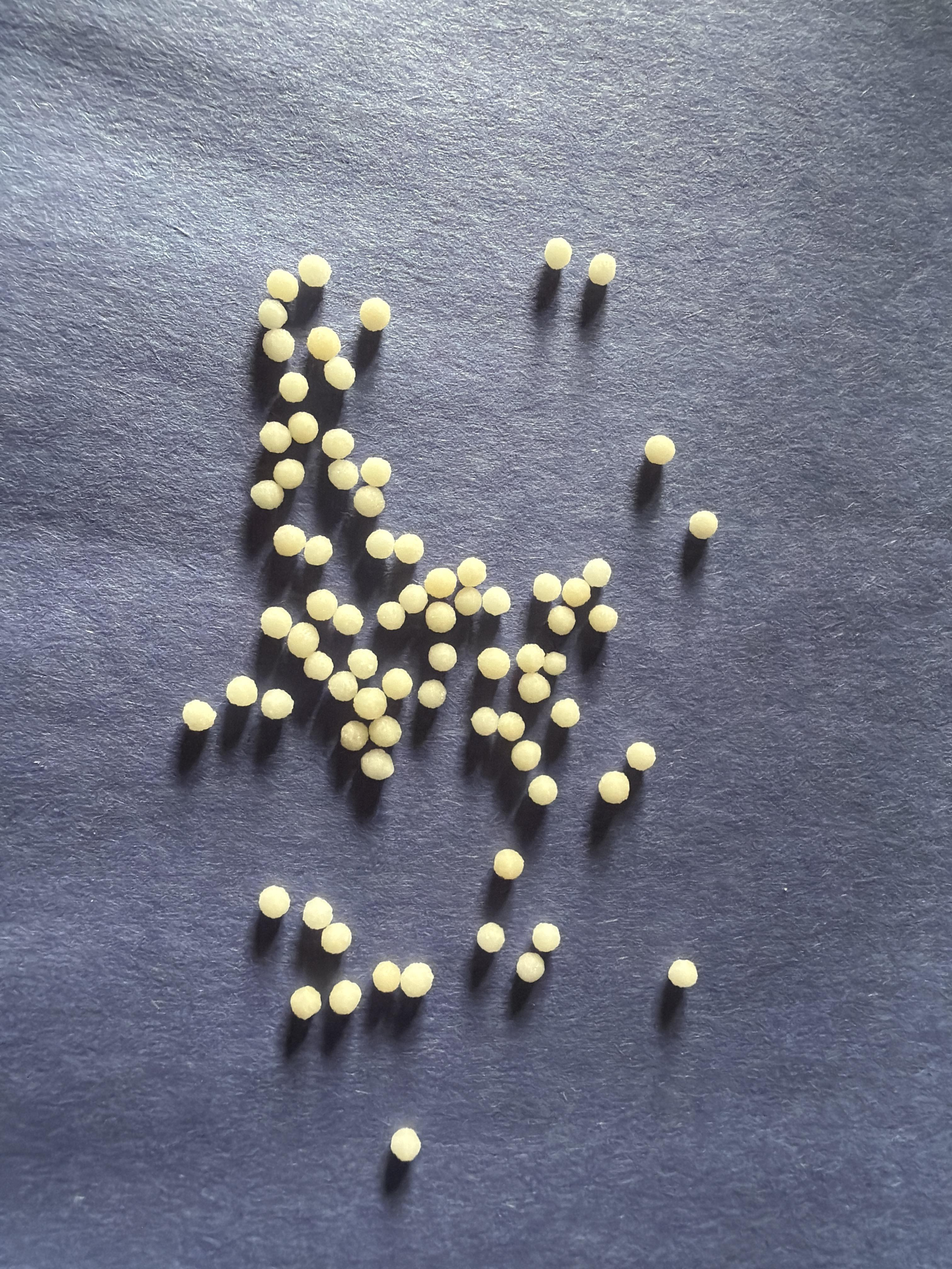pill: (287, 622, 319, 660), (307, 326, 341, 361), (400, 962, 433, 998), (298, 254, 332, 288), (328, 980, 361, 1015), (262, 327, 295, 362), (354, 687, 387, 721), (359, 297, 391, 332), (182, 699, 217, 731), (390, 1127, 421, 1163), (273, 524, 306, 557), (369, 715, 402, 748), (258, 885, 290, 919), (477, 648, 511, 680), (290, 986, 321, 1021), (266, 269, 298, 302), (260, 606, 292, 639), (353, 485, 385, 518), (259, 421, 292, 453), (598, 771, 630, 804), (423, 567, 456, 599), (250, 479, 284, 510), (325, 355, 355, 390), (226, 675, 258, 707), (321, 922, 352, 955), (260, 689, 293, 720), (302, 896, 332, 930), (425, 601, 456, 633), (493, 848, 524, 880), (644, 434, 676, 465), (278, 371, 309, 403), (322, 428, 354, 459), (287, 412, 319, 443), (381, 668, 412, 700), (306, 589, 338, 620), (518, 673, 551, 703), (332, 604, 363, 635), (327, 460, 359, 490), (328, 671, 358, 702), (528, 775, 558, 806), (511, 740, 541, 771), (258, 298, 288, 329), (394, 533, 424, 564), (273, 459, 304, 489), (340, 720, 369, 752), (516, 951, 545, 983), (360, 458, 392, 487), (544, 237, 572, 270), (372, 961, 400, 994), (550, 698, 580, 728), (303, 651, 333, 681), (456, 557, 486, 587), (476, 922, 505, 953), (348, 649, 377, 680), (303, 535, 332, 566), (365, 529, 394, 560), (588, 254, 616, 286), (516, 643, 545, 673), (689, 510, 718, 540), (428, 643, 457, 673), (547, 605, 576, 635), (398, 584, 428, 613), (532, 922, 560, 953), (583, 557, 611, 588), (589, 604, 618, 633), (626, 742, 655, 771), (417, 680, 446, 709), (377, 601, 406, 630), (668, 959, 697, 988), (533, 572, 561, 602), (497, 711, 525, 741), (483, 586, 511, 616), (562, 578, 590, 607), (454, 587, 482, 616), (471, 707, 498, 736), (542, 651, 567, 676)
